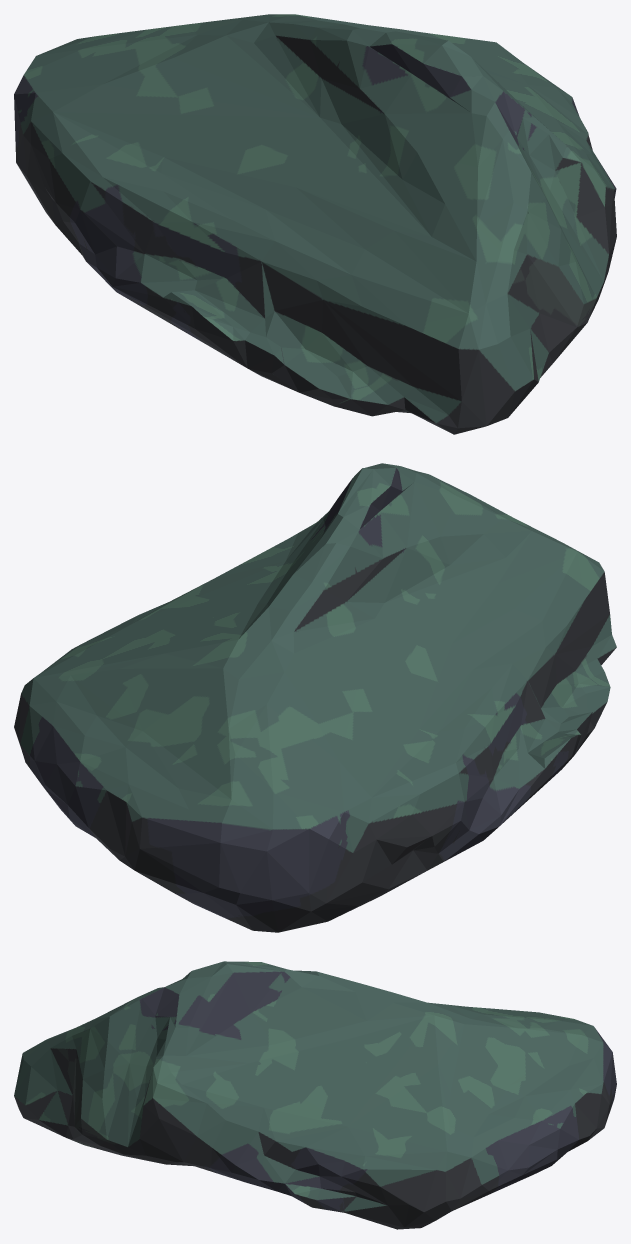
File: ROCK_B.fbx
3 renders of one model, top to bottom at view 1: azimuth 30°, elevation 25°; view 2: azimuth 150°, elevation 25°; view 3: azimuth 270°, elevation 25°, orthographic. The views are drawn at different scales.
Visible parts, largest first — view 1: ROCK_B; view 2: ROCK_B; view 3: ROCK_B.
Part boxes in pixels (<box>): ROCK_B: <box>14,14,616,434</box>; ROCK_B: <box>14,463,616,932</box>; ROCK_B: <box>14,961,616,1229</box>.
Size of the model in its own units: 244 by 144 by 377.
